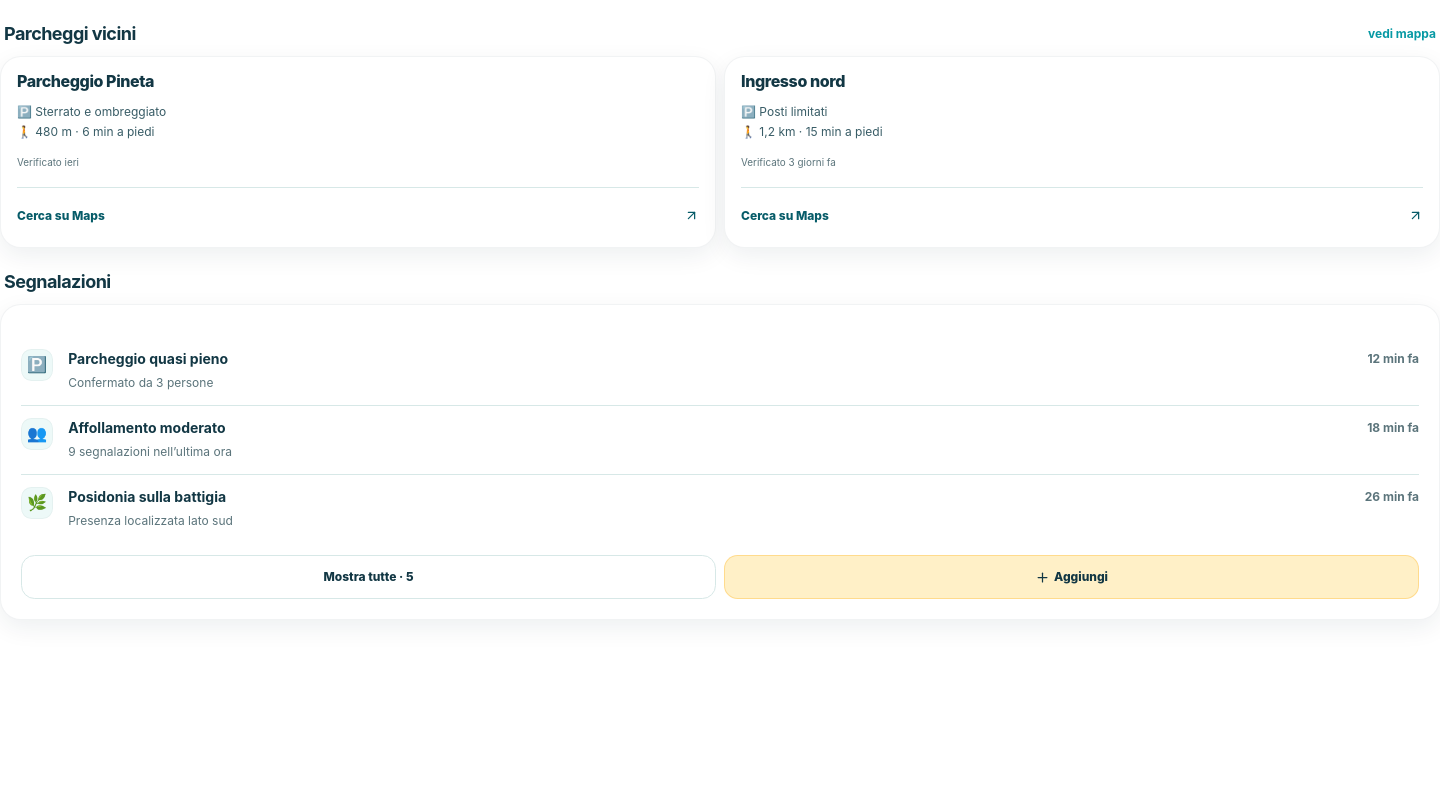
Test: BeachLiveSections › opens a report composer and publishes a new report
Click the button "Aggiungi" at (1072, 577), box [724,555,1419,599]
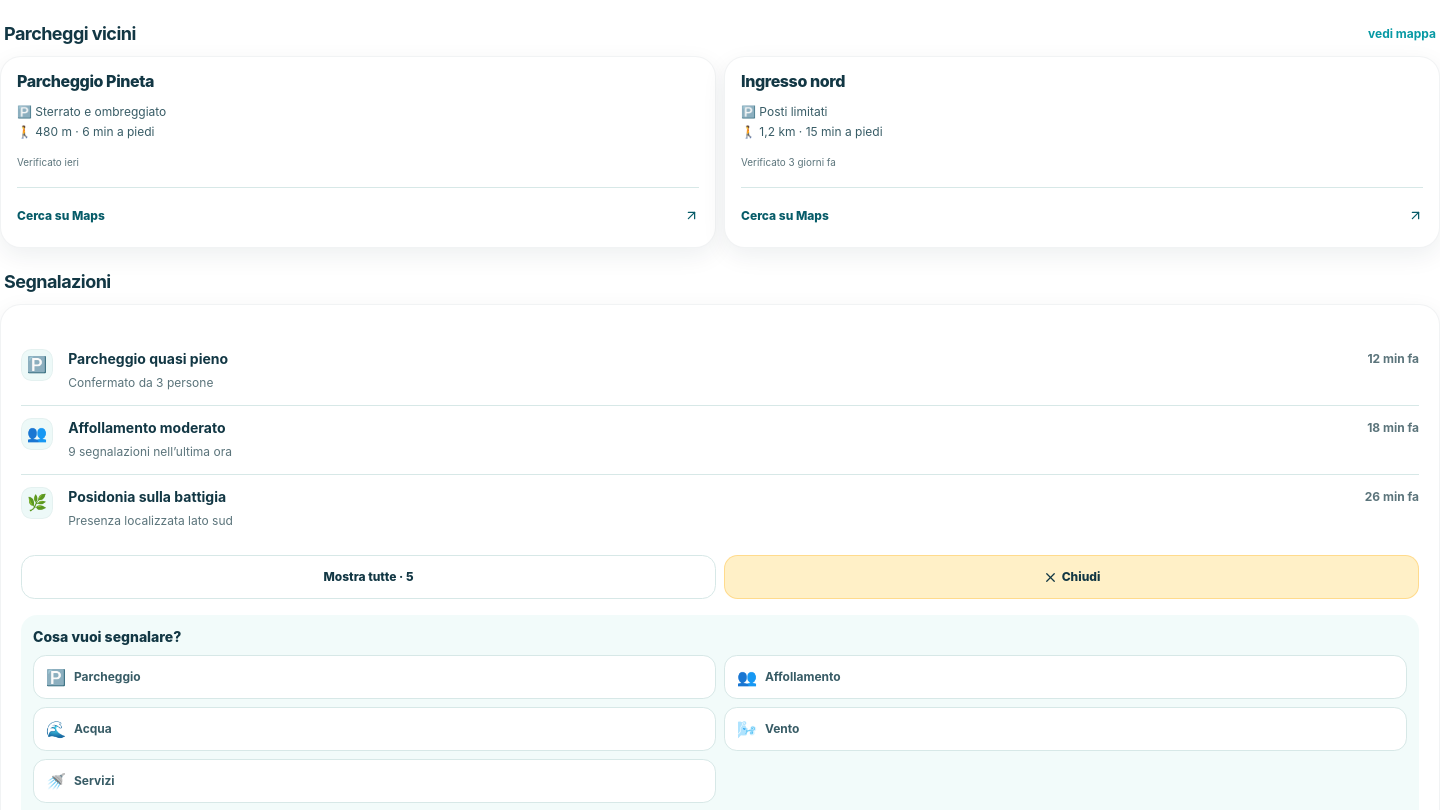
Now the radio button labelled "Acqua" is shown
Click the radio button labelled "Acqua" at (93, 728), box [33,707,716,751]
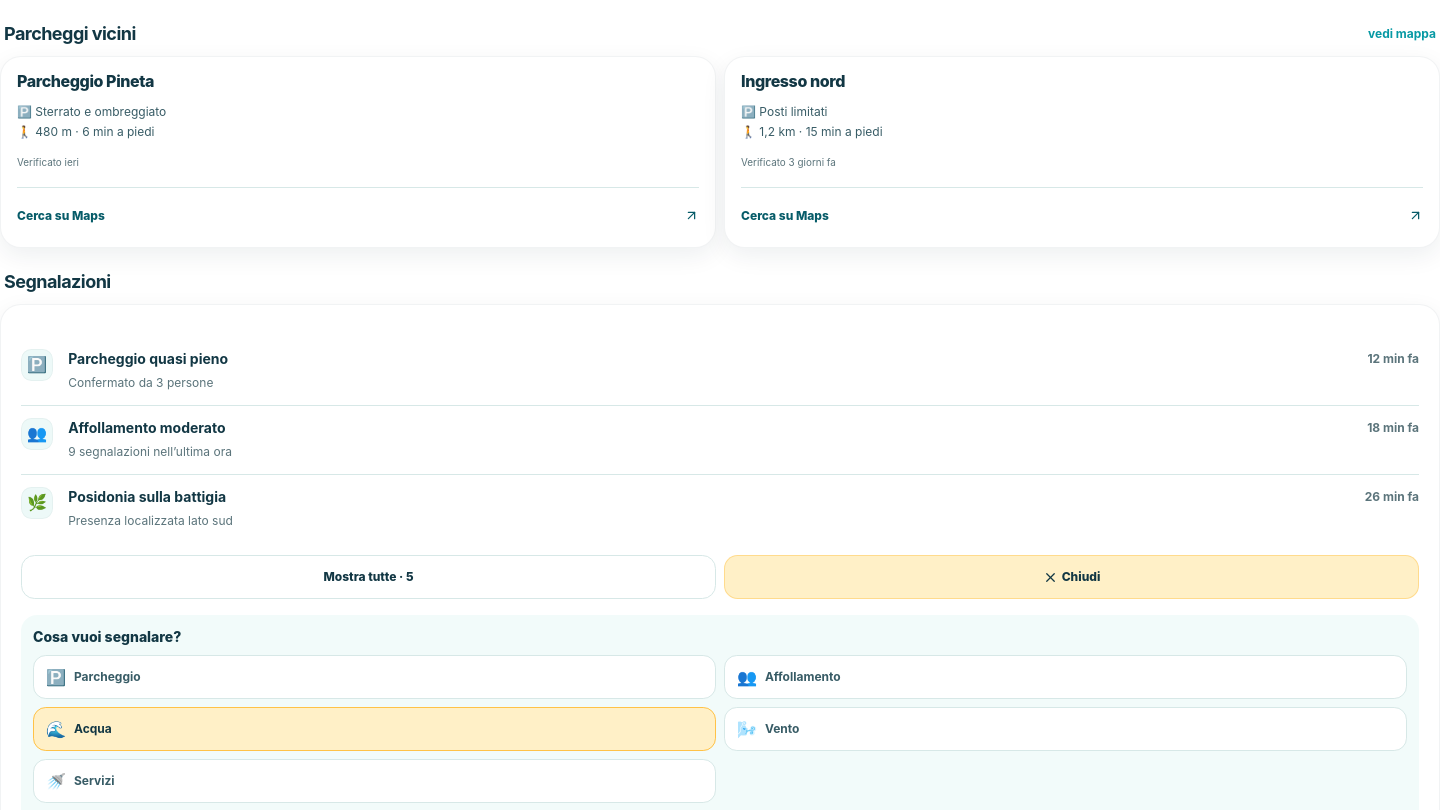
Click the radio button labelled "Vento" at (782, 728), box [724,707,1407,751]
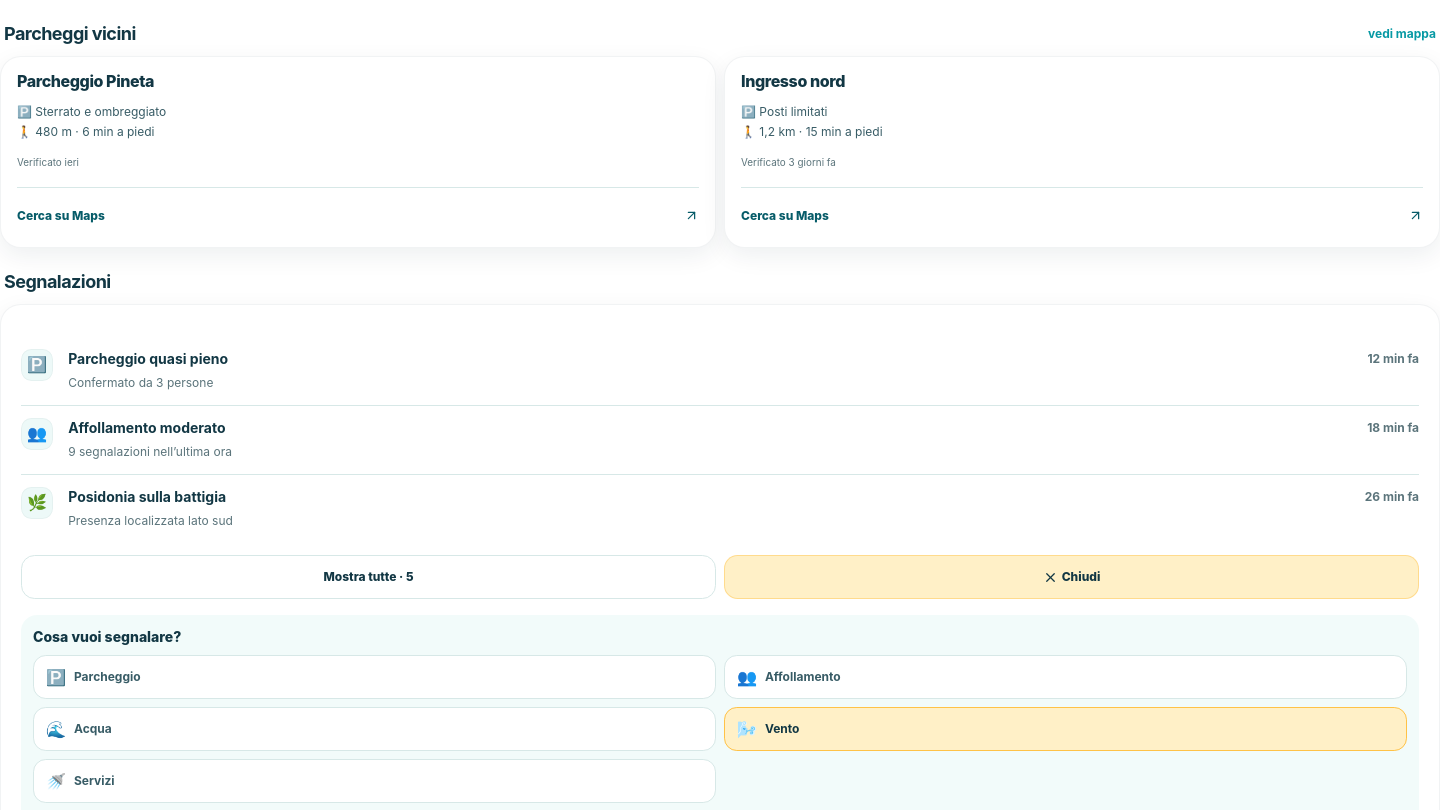
Click the radio button labelled "Acqua" at (93, 728), box [33,707,716,751]
(page scrolled)
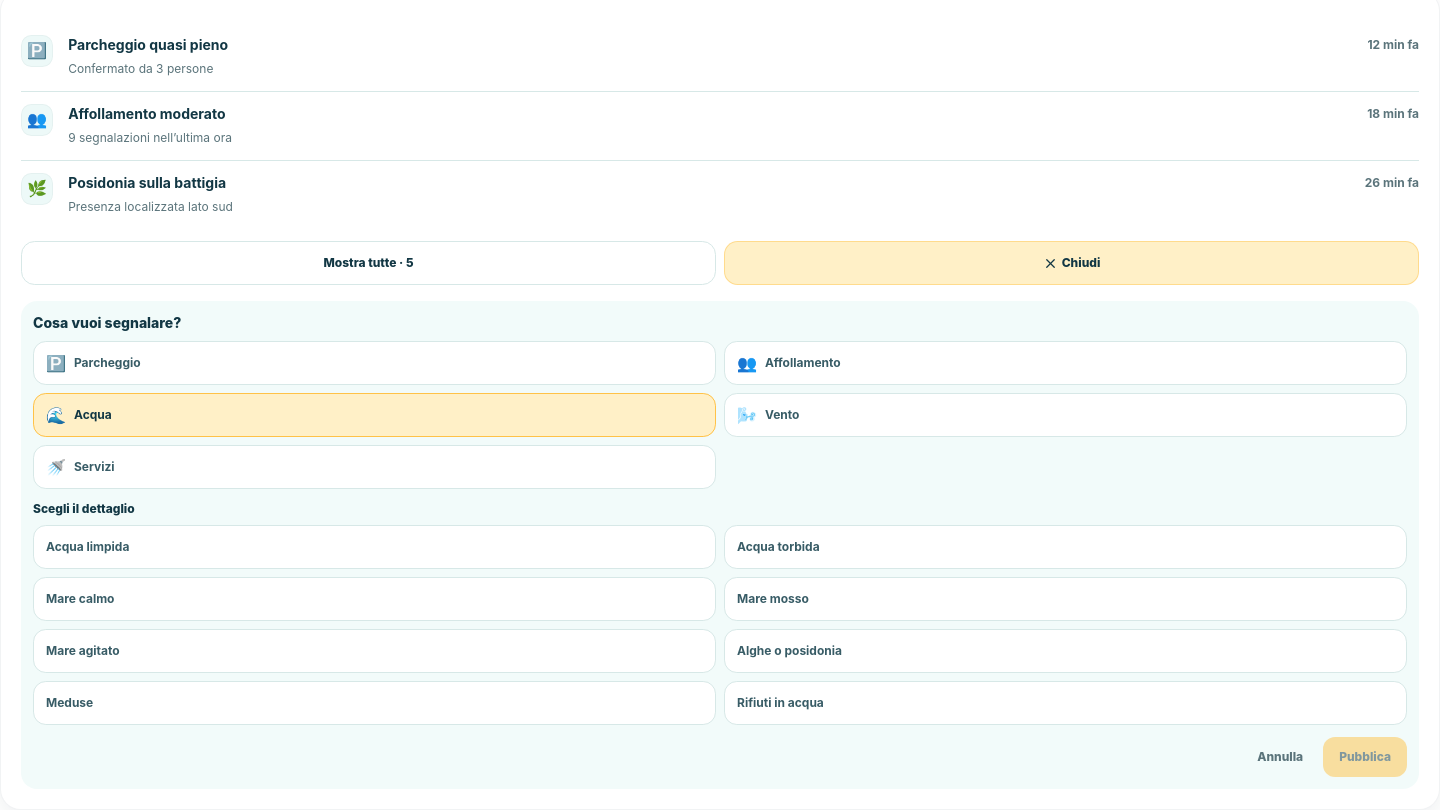
Click the radio button labelled "Acqua limpida" at (88, 546), box [33,525,716,569]
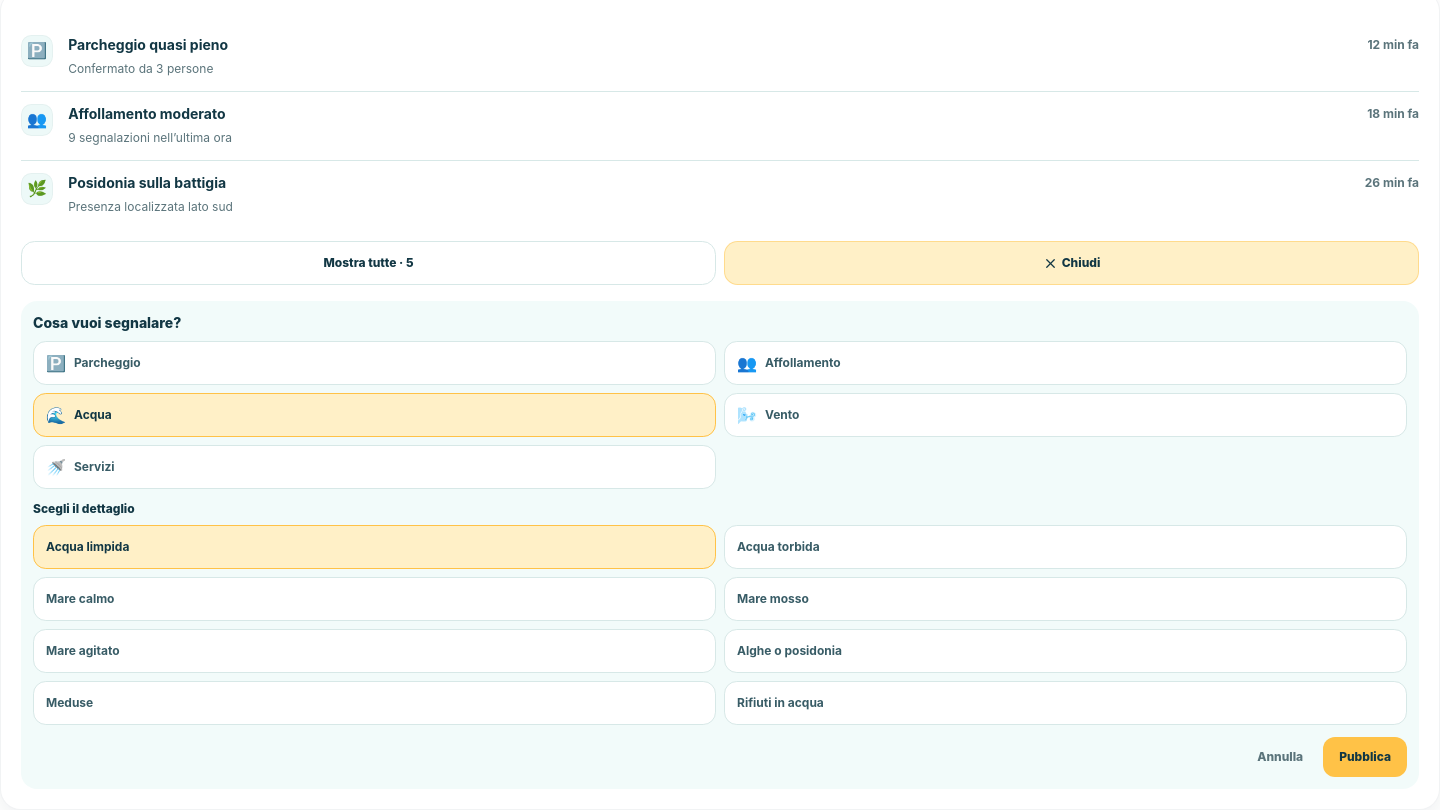
Click the button "Pubblica" at (1365, 757), box [1323,737,1407,777]
(page scrolled)
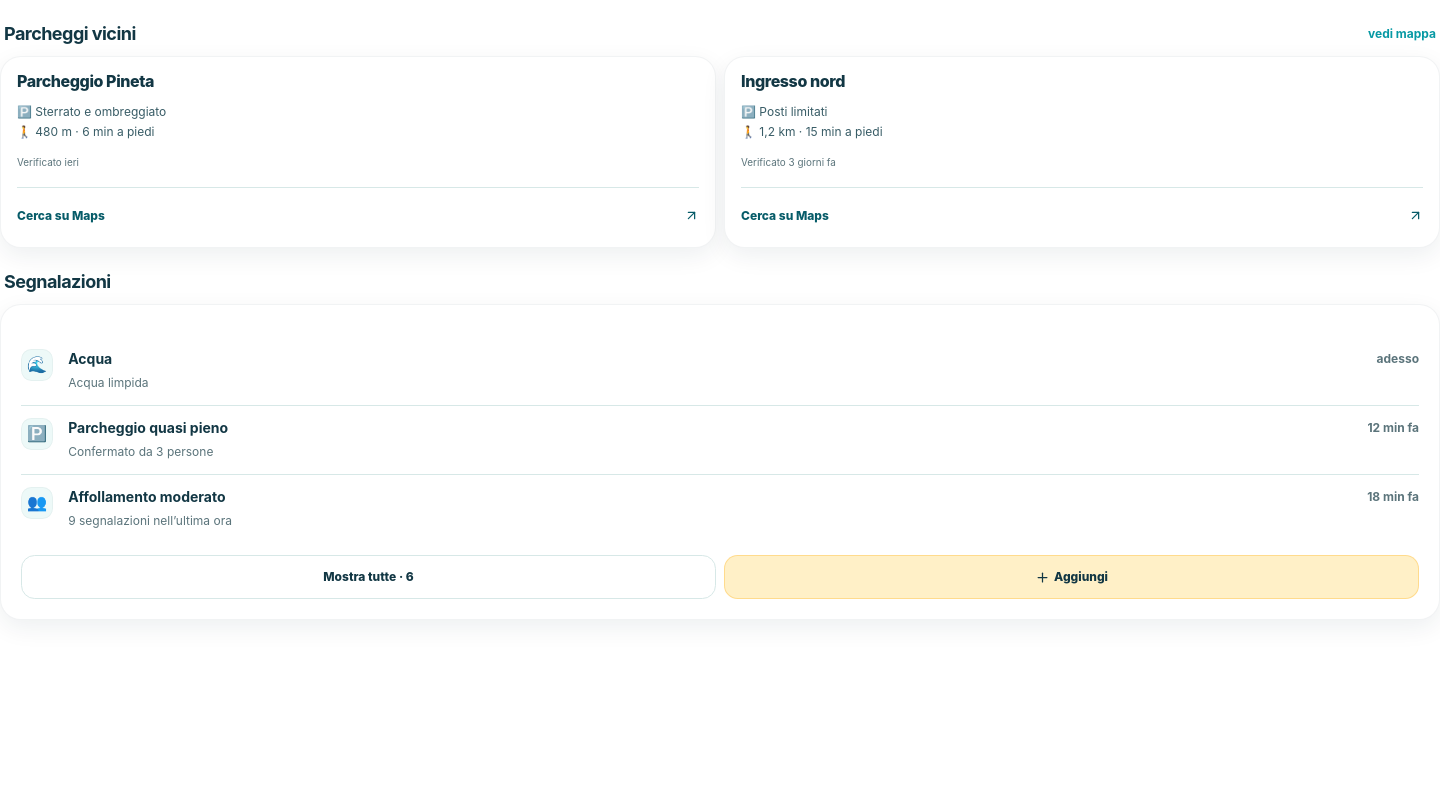
Now the text "Acqua limpida" is shown, box [68,375,149,390]
